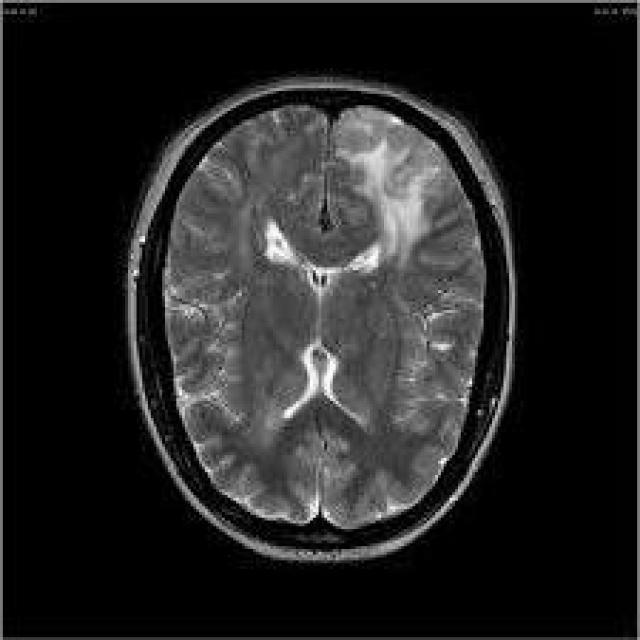notumor: (134, 82, 512, 560)
